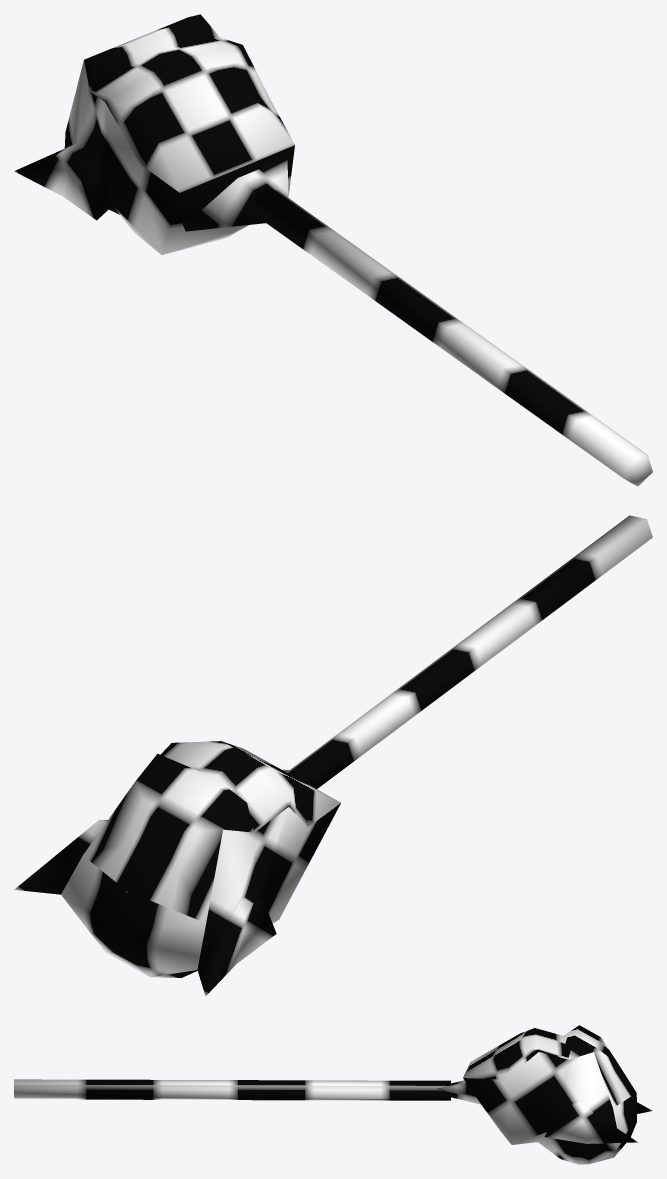
File: initqu79.dae
3 renders of one model, top to bottom at view 1: azimuth 30°, elevation 25°; view 2: azimuth 150°, elevation 25°; view 3: azimuth 270°, elevation 25°, orthographic. The views are drawn at different scales.
Visible parts, largest first — view 1: item; view 2: item; view 3: item.
Boxes of the visible parts, x1=… form: item: x1=14, y1=14, x2=652, y2=486; item: x1=14, y1=515, x2=652, y2=996; item: x1=14, y1=1025, x2=652, y2=1164.
Bounding box in the file's own units: 0.3994 × 1.74 × 0.3803.
Materials: 1 (1 with a texture image).
